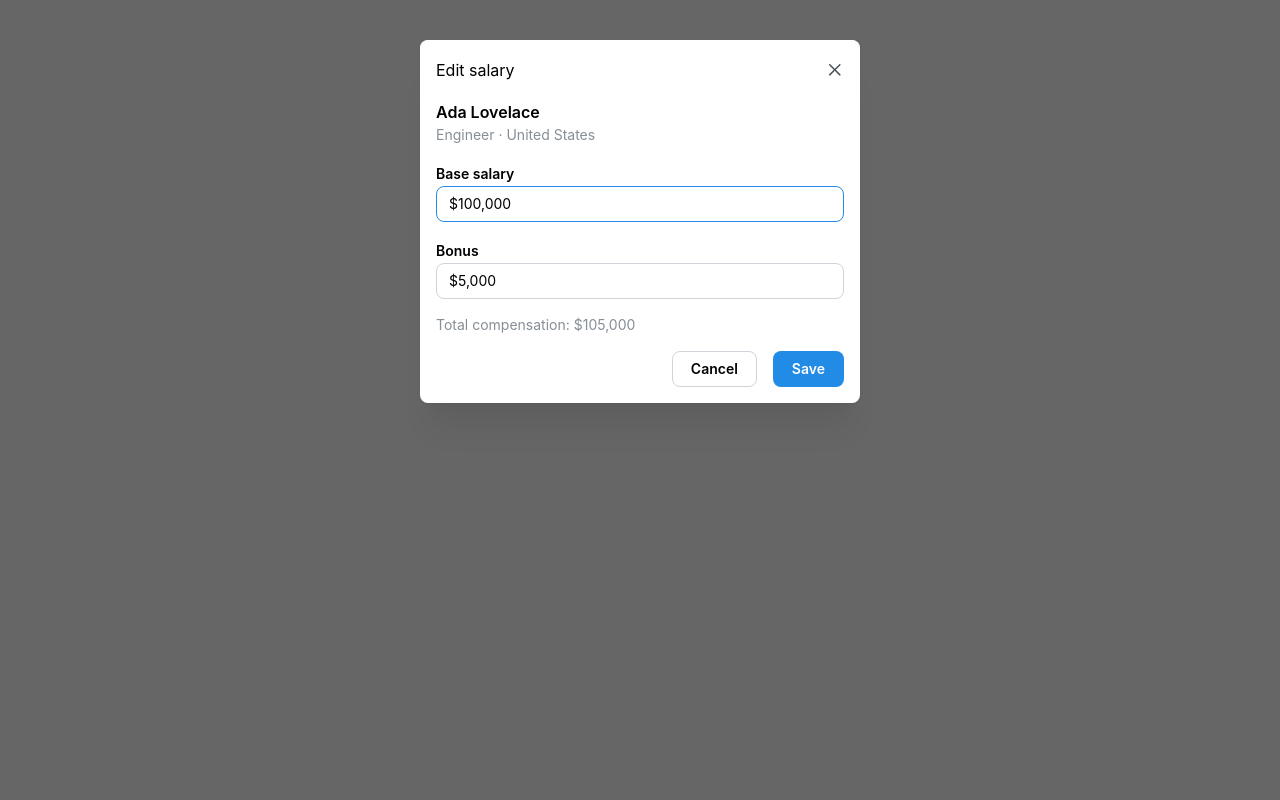
it: SalaryEditModal › shows the server error and keeps the modal open when saving fails
Expected: the field labelled "Base salary" is shown, top-left (436, 186), bottom-right (844, 222)
What coordinates should you click on to do the following:
click the button "Save"
I would click on:
 (808, 369)
Its box is top-left (773, 351), bottom-right (844, 387).
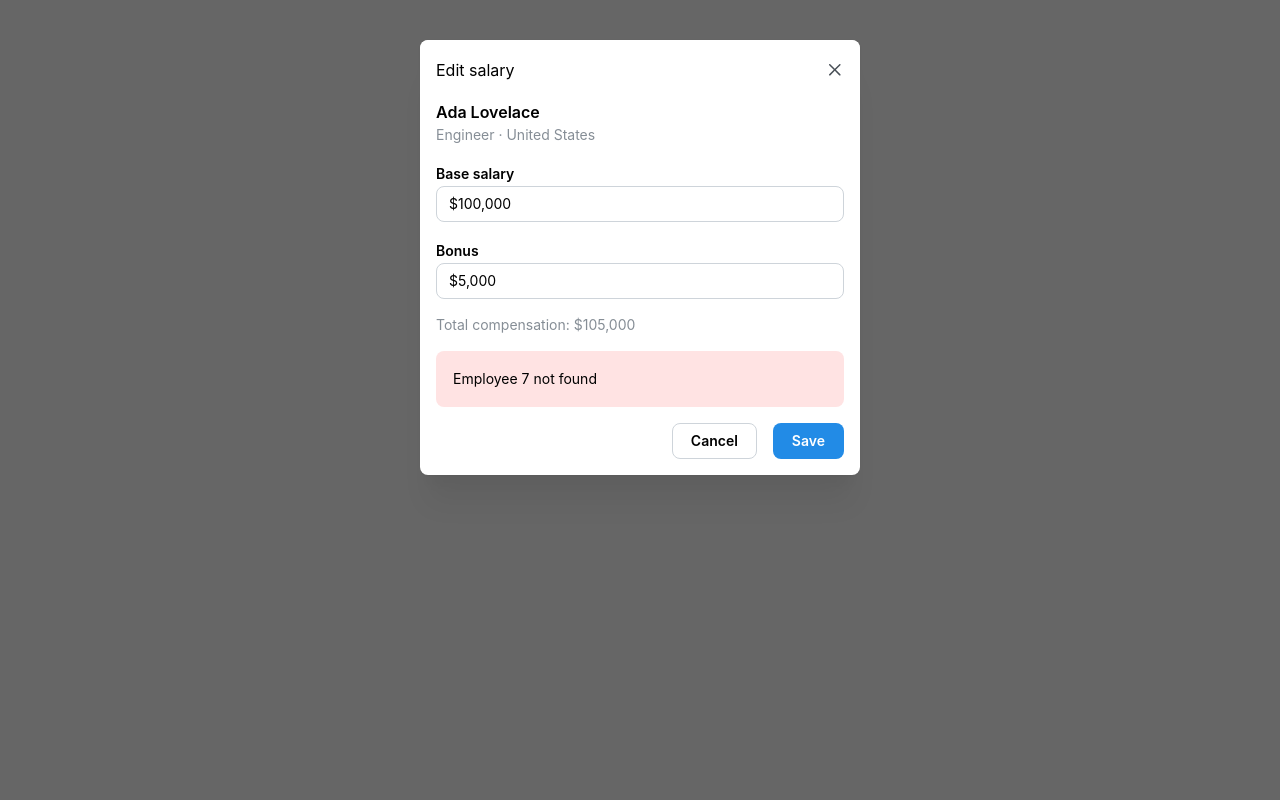
Expected: the field labelled "Base salary" is shown, top-left (436, 186), bottom-right (844, 222)
Expected: the message reads "Employee 7 not found", top-left (453, 370), bottom-right (597, 387)
